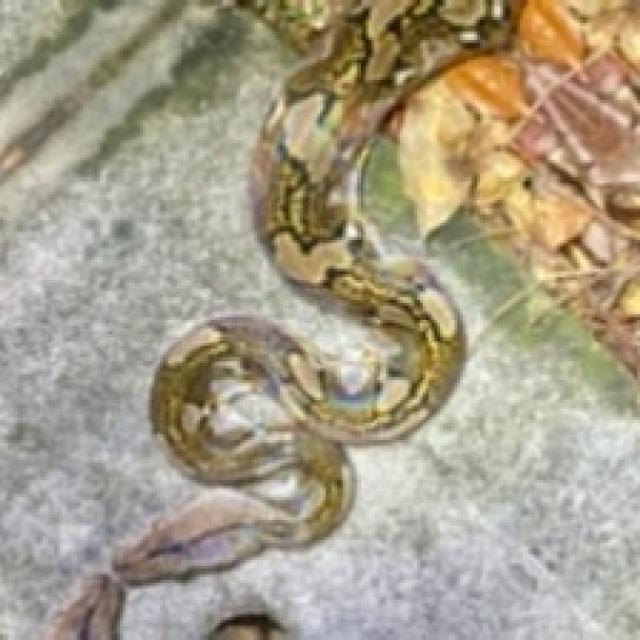reticulated python: (46, 0, 511, 639)
